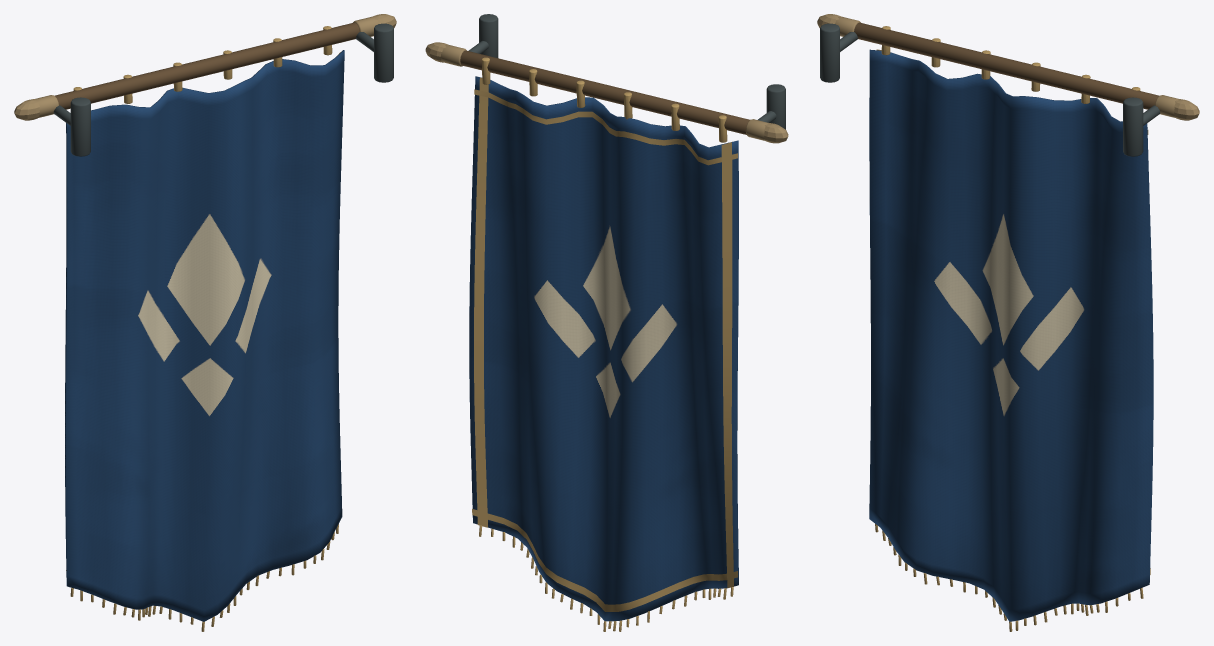
File: heart_banner.glb
3 views of the same model, side by side, from view 1: azimuth 30°, elevation 25°; view 2: azimuth 150°, elevation 25°; view 3: azimuth 330°, elevation 25° (orthographic). The views are drawn at different scales.
Parts seen in each view (by area): view 1: VeilfallBlueLinen, OiledTimberCrossbar, DarkIronMount, AgedOchreThread, WeatheredBrass; view 2: VeilfallBlueLinen, AgedOchreThread, OiledTimberCrossbar, DarkIronMount, WeatheredBrass; view 3: VeilfallBlueLinen, OiledTimberCrossbar, DarkIronMount, AgedOchreThread, WeatheredBrass.
Part boxes in pixels (box(x1,y1,x2,y2)): VeilfallBlueLinen: box(65, 50, 344, 621); OiledTimberCrossbar: box(55, 22, 359, 109); DarkIronMount: box(53, 23, 393, 156); AgedOchreThread: box(66, 26, 340, 631); WeatheredBrass: box(14, 14, 396, 120); VeilfallBlueLinen: box(469, 76, 738, 621); AgedOchreThread: box(472, 57, 737, 631); OiledTimberCrossbar: box(460, 50, 749, 134); DarkIronMount: box(468, 14, 785, 129); WeatheredBrass: box(425, 42, 788, 143); VeilfallBlueLinen: box(869, 49, 1153, 621); OiledTimberCrossbar: box(854, 22, 1158, 109); DarkIronMount: box(820, 23, 1160, 156); AgedOchreThread: box(875, 26, 1150, 631); WeatheredBrass: box(817, 14, 1199, 120).
Size of the model in its own units: 3.86 by 5.68 by 0.7695.
5 materials, 1 textured.
